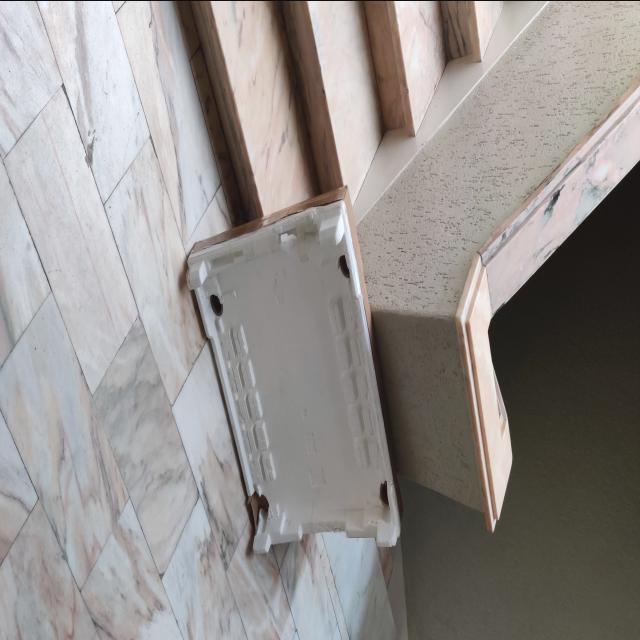Corrugated carton: (190, 185, 403, 521), (248, 491, 267, 526)
Styrofoam piece: (186, 198, 400, 553)
